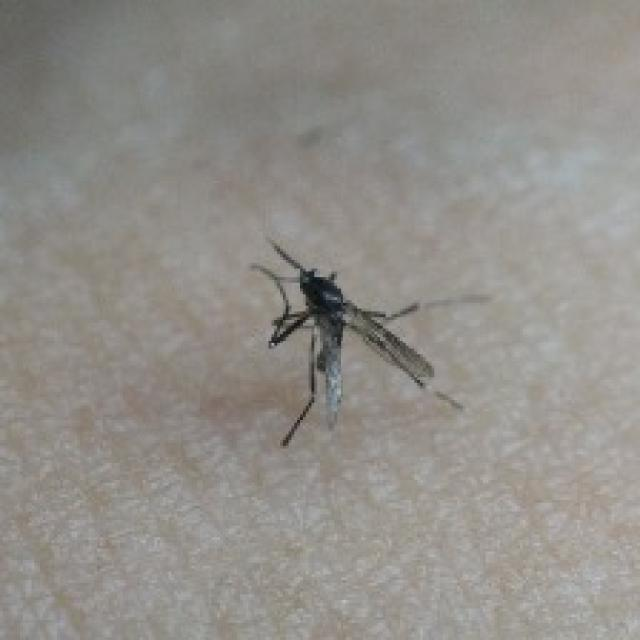aedes: (245, 232, 466, 448)
